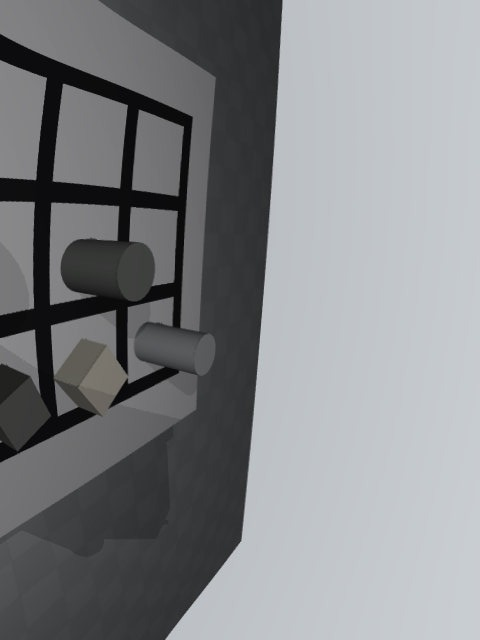can: (134, 322, 216, 376)
cube: (0, 364, 51, 452)
cylinder: (60, 239, 155, 302)
foam: (53, 339, 128, 417)
